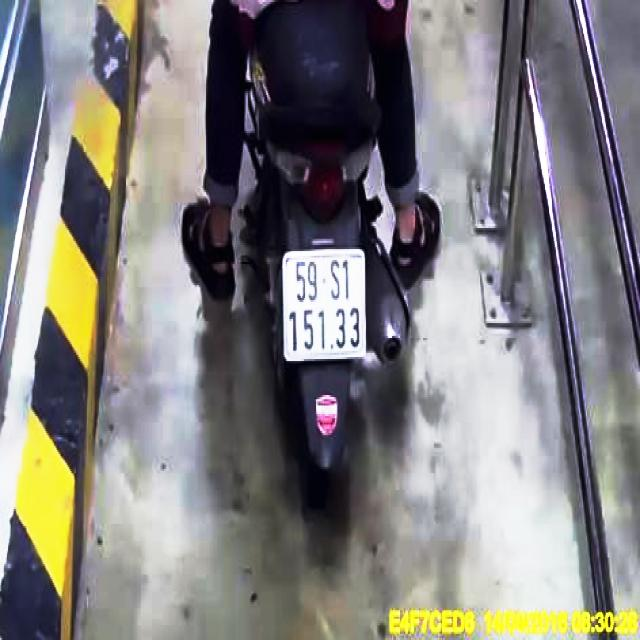license_plate: (288, 253, 369, 358)
